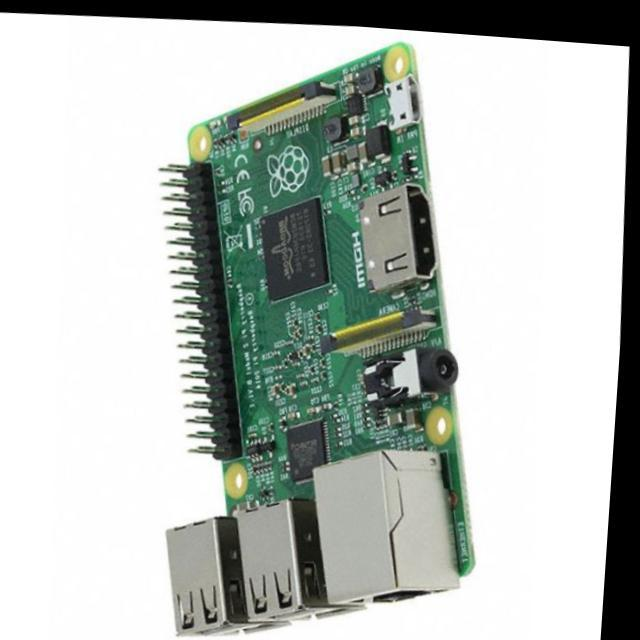Raspberry-Pi-2-B: (163, 44, 474, 635)
